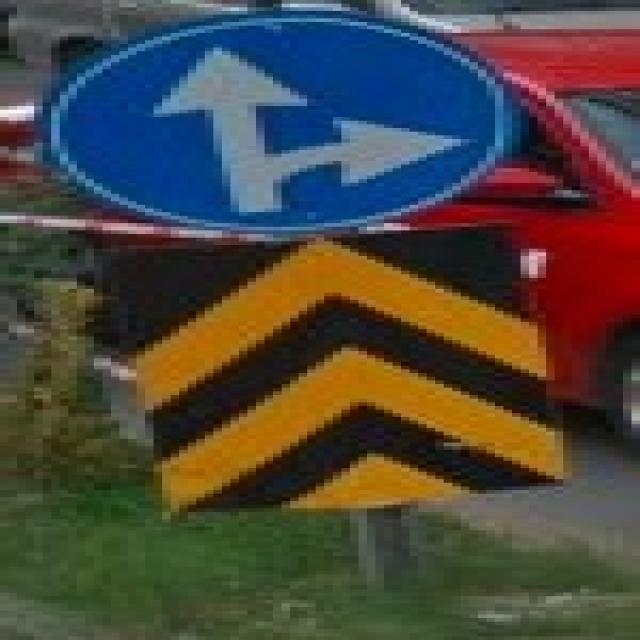Straight or Right: (52, 14, 496, 237)
